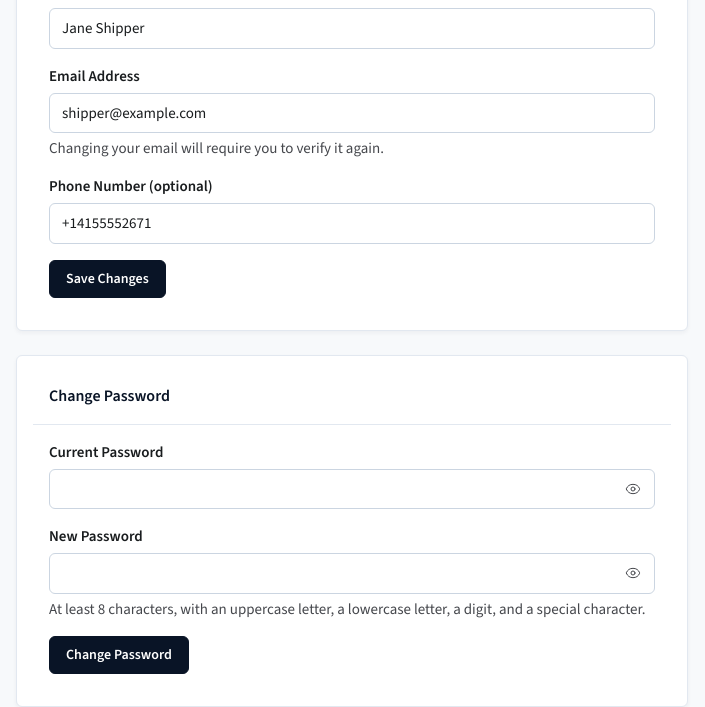
AccountSettingsPage — Password section › blocks submission and shows validation errors for empty fields
(page scrolled)
Click the button "Change Password" at (119, 654), box x1=49 y1=636 x2=189 y2=674
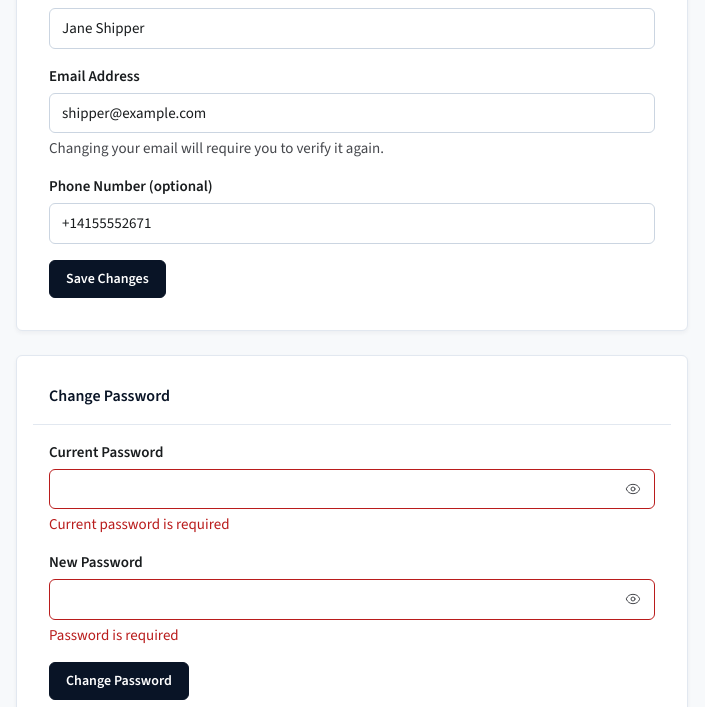
Expected: the text "Current password is required" is shown, x1=49 y1=514 x2=230 y2=534
Expected: the text "Password is required" is shown, x1=49 y1=624 x2=179 y2=644
